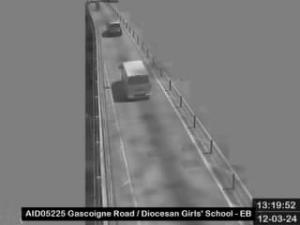vehicle: (118, 60, 152, 100), (107, 18, 121, 38)
